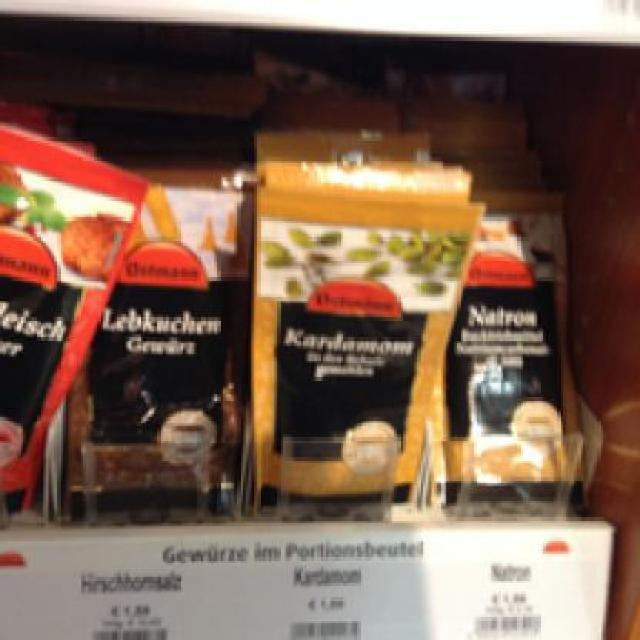Spices: (248, 154, 478, 506), (74, 177, 237, 503), (445, 183, 578, 492)
